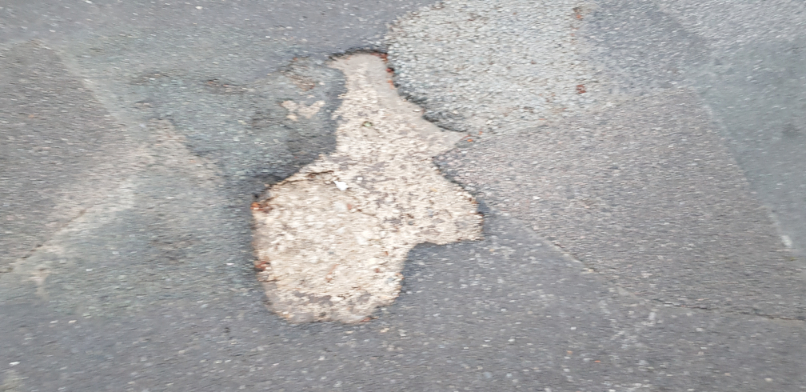pothole: (245, 43, 488, 330)
